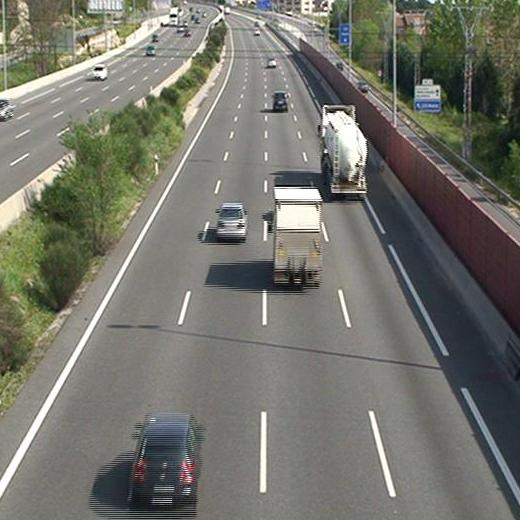car: (131, 418, 197, 503), (216, 203, 246, 237), (272, 91, 287, 108), (266, 57, 277, 66)
small-truck: (271, 187, 322, 286)
tank-truck: (320, 105, 368, 200)
